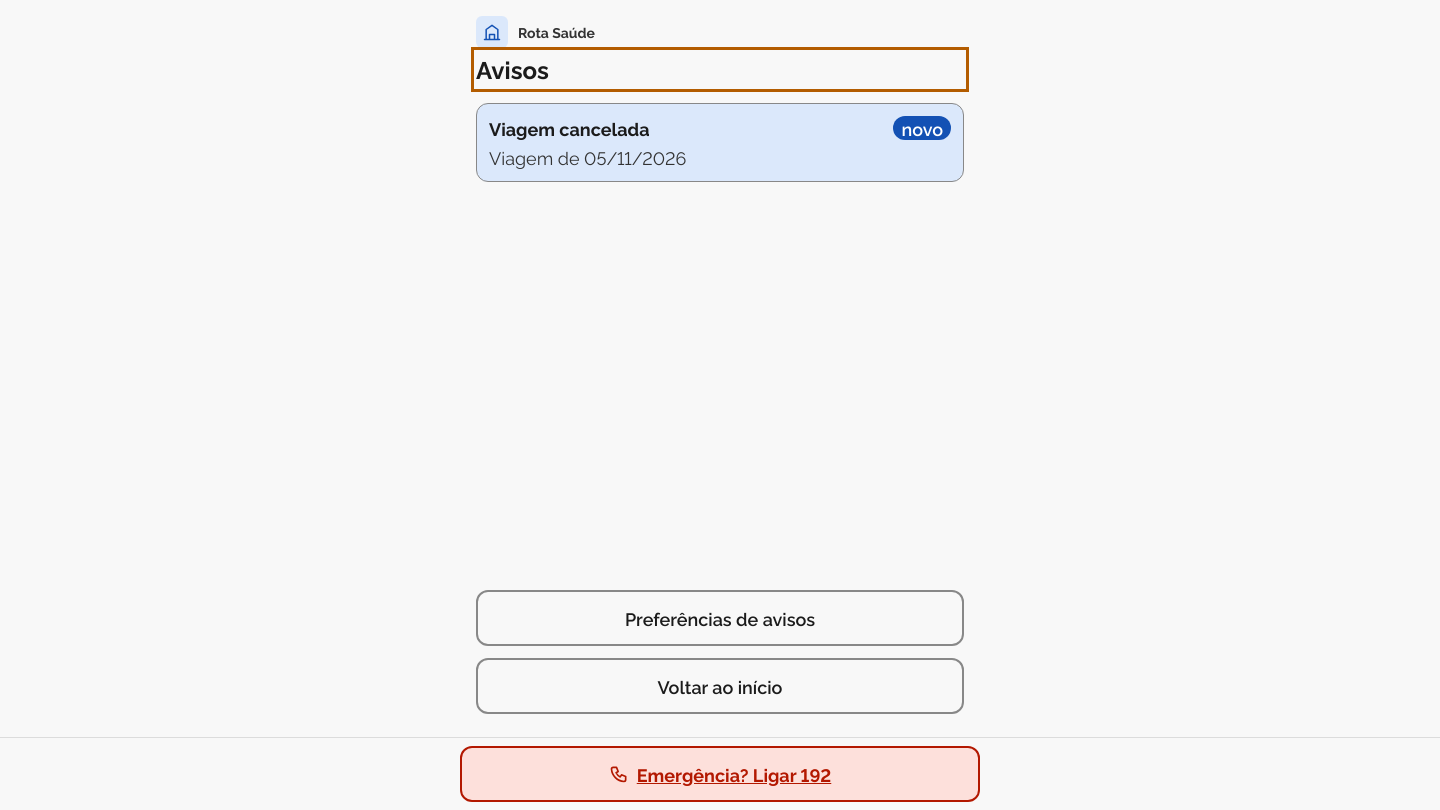
Test case: NoticesStep — aviso de viagem (módulo 30) › cancelada ou retirada: a dica da central, sem hora; sem hora válida, só a data
Click the button "Viagem cancelada novo Viagem de 05/11/2026": [569, 128] box [476,103,964,182]
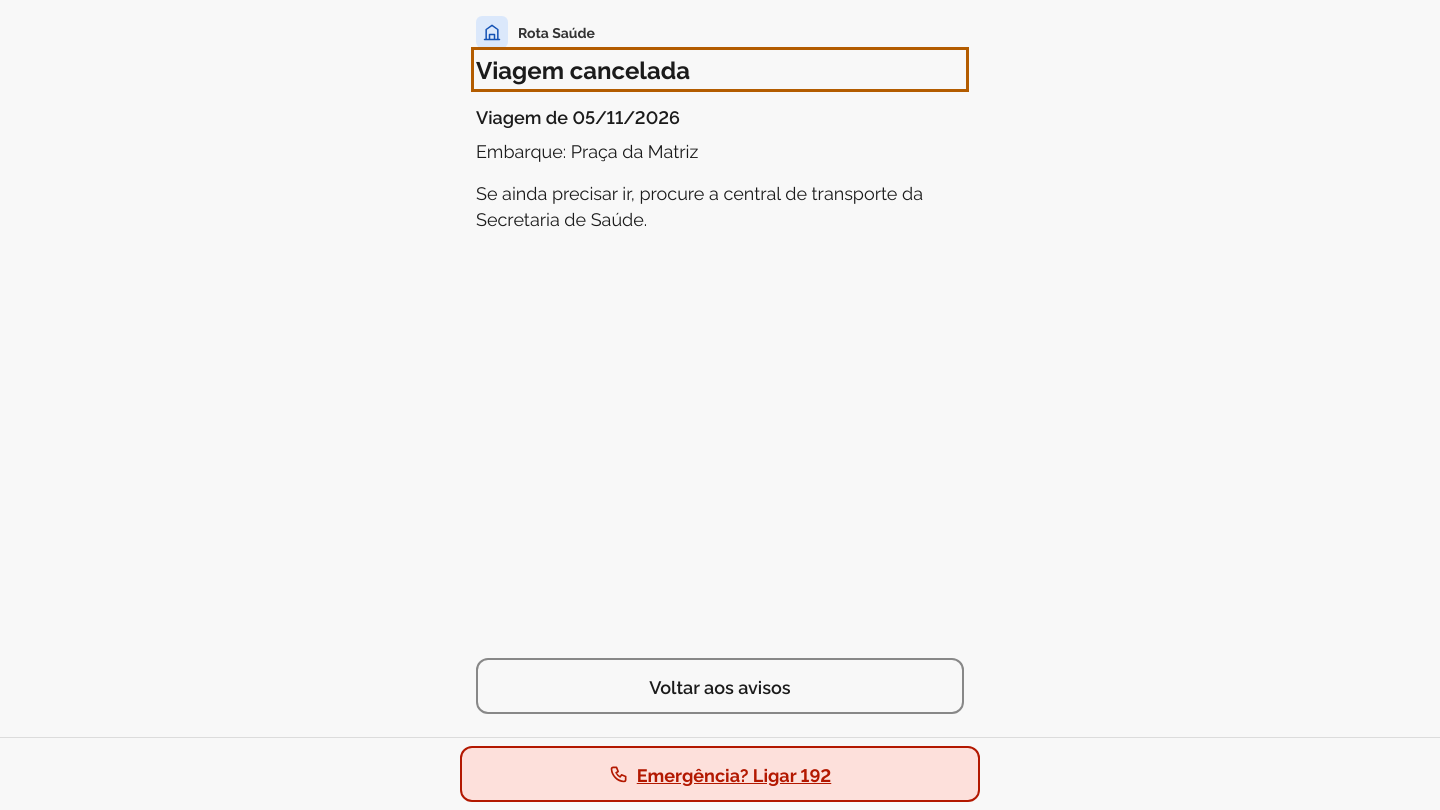
Check: the text "Viagem de 05/11/2026" is shown, box [476,104,680,128]
Check: the text "Se ainda precisar ir, procure a central de transporte da Secretaria de Saúde." is shown, box [476,179,964,231]
